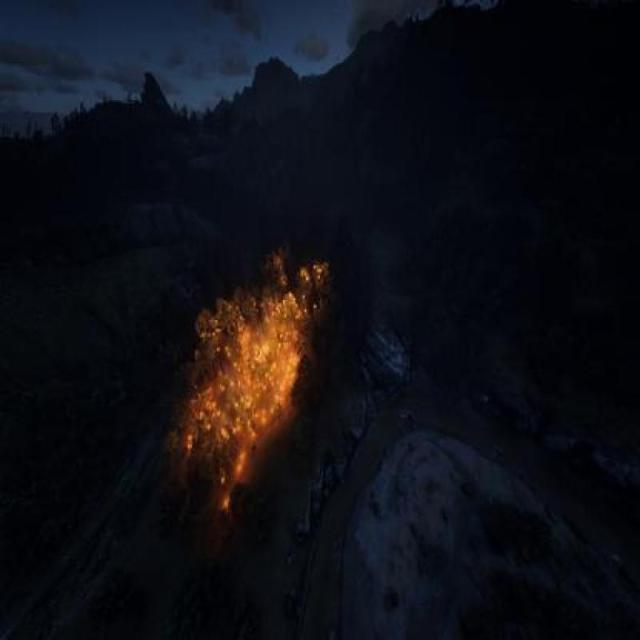Fire: (182, 288, 268, 524), (268, 255, 328, 423)
